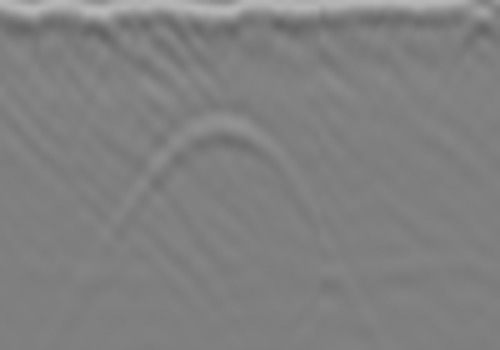hyperbola: (98, 108, 345, 333)
